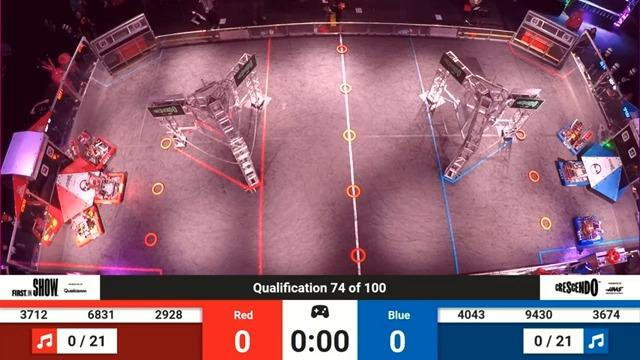robot: (77, 127, 121, 170), (87, 168, 129, 212), (66, 206, 108, 249), (554, 115, 596, 154), (572, 214, 605, 248), (553, 159, 591, 187)
